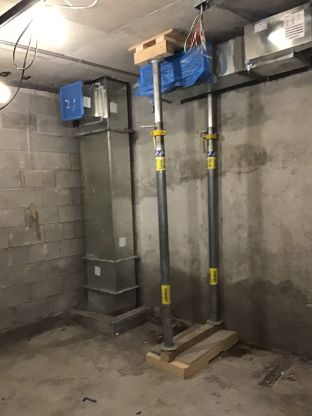Duct: (53, 73, 144, 320), (130, 1, 312, 108)
